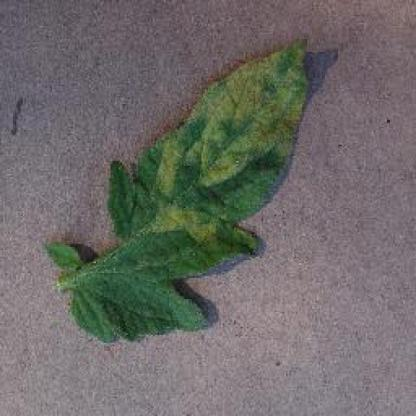Tomato_Leaf_Mold: (108, 37, 308, 274)
